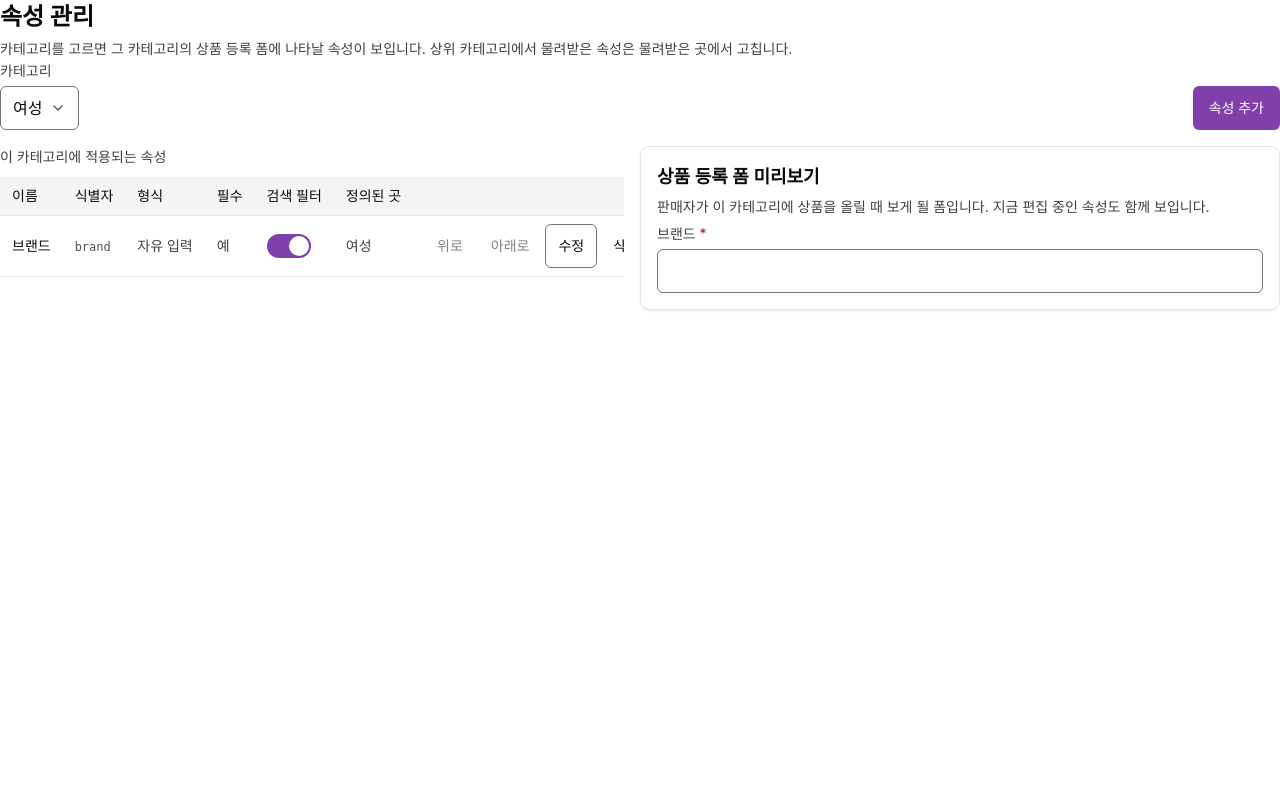
Test case: somebody else saved first › can drop this edit and take the server’s
The width and height of the screenshot is (1280, 797).
Check: the table "이 카테고리에 적용되는 속성" is shown, box [0, 146, 624, 277]
Click the button "수정" at x=571, y=246, box [546, 224, 597, 268]
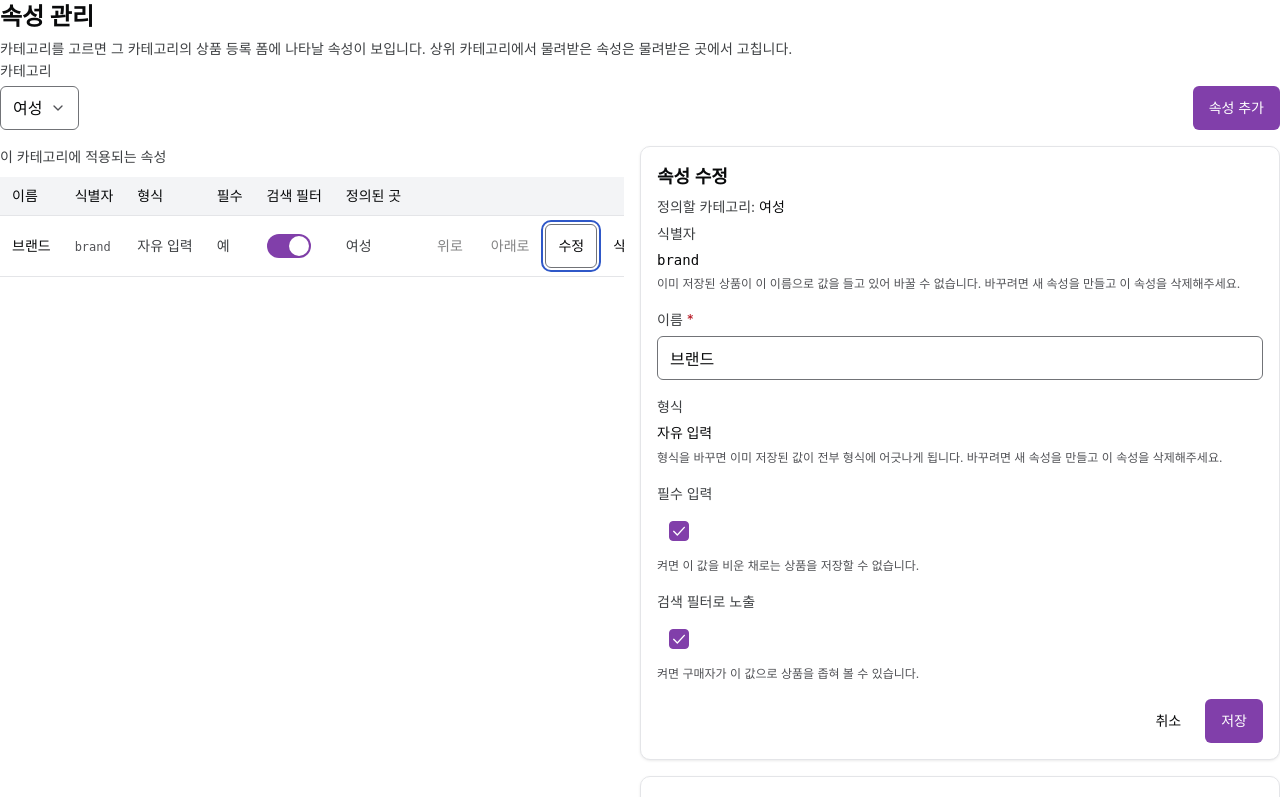
Check: the form is shown, box [657, 223, 1263, 743]
Replace the text in the field labelled "이름" with "내가 쓴 이름" at x=960, y=358, box [657, 336, 1263, 380]
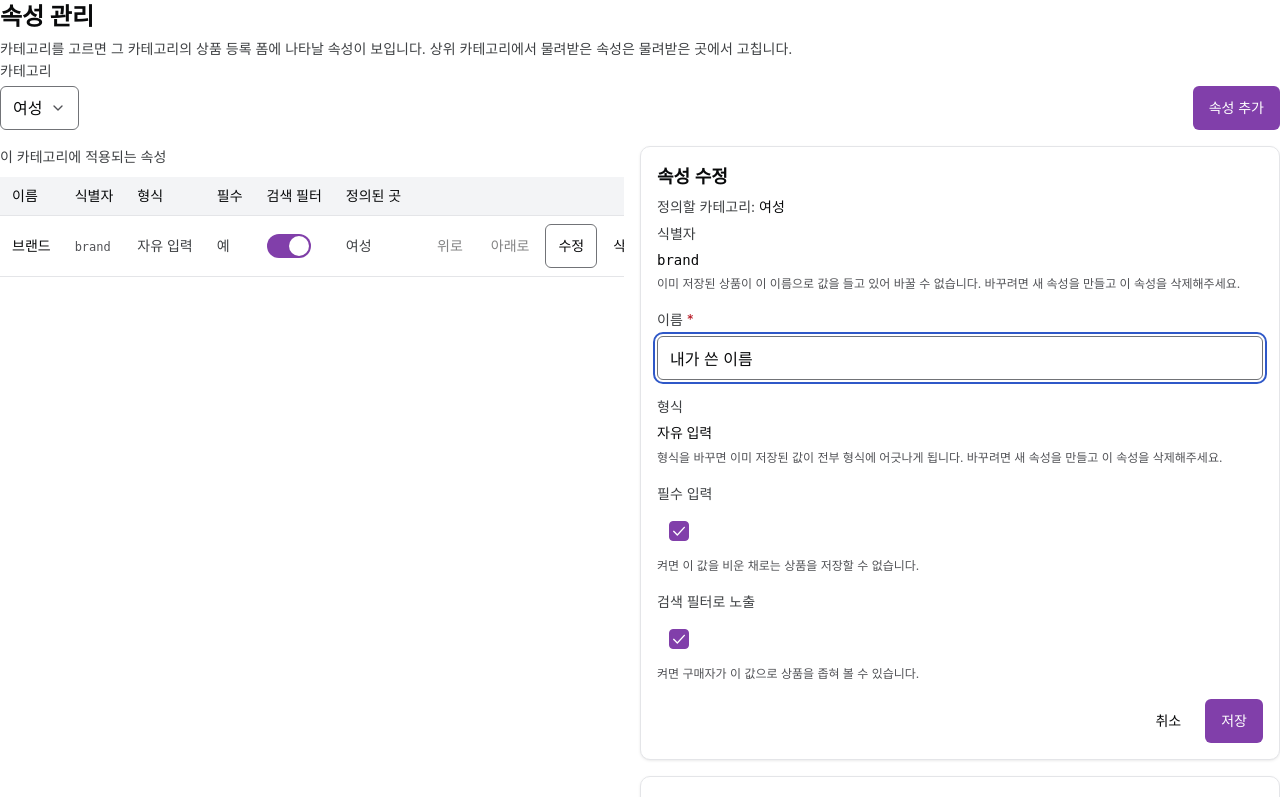
Click the button "저장" at x=1234, y=721, box [1205, 699, 1263, 743]
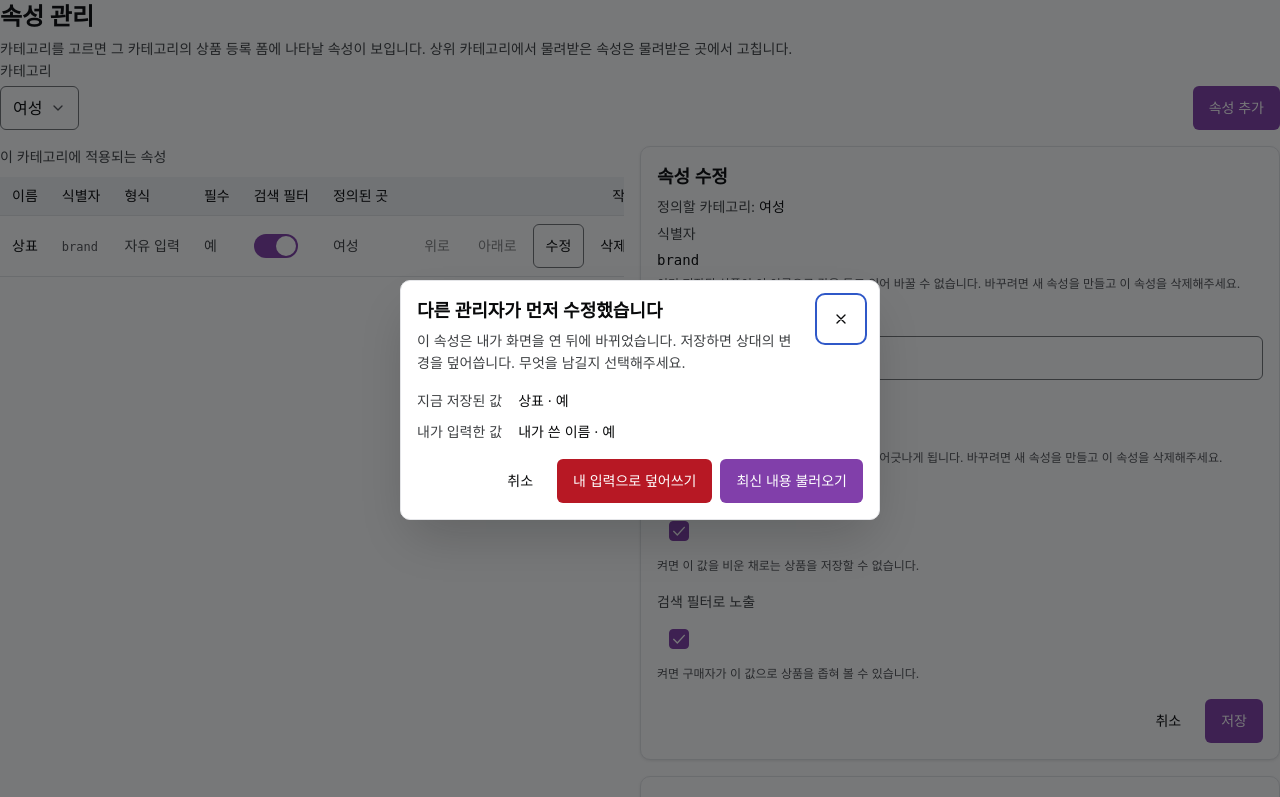
Click the button "최신 내용 불러오기" at x=792, y=481, box [720, 459, 863, 503]
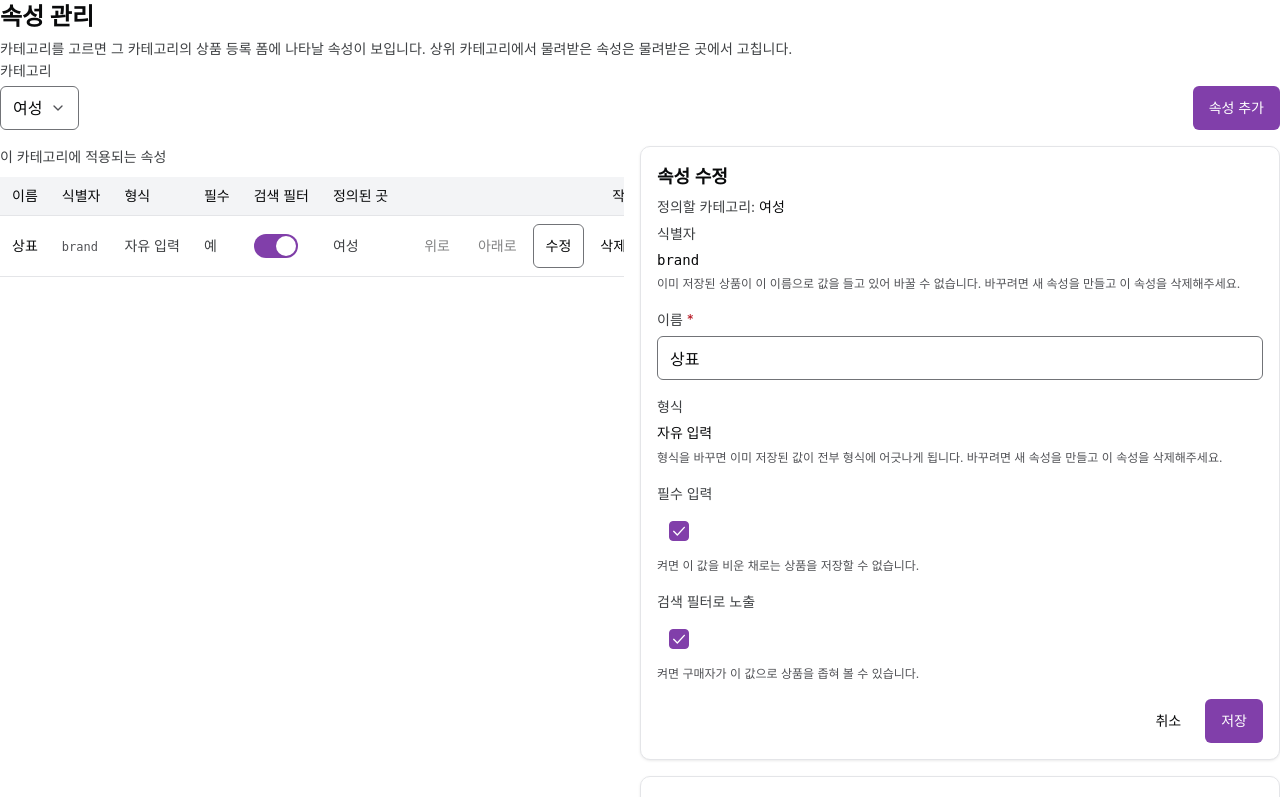
Check: the field labelled "이름" holds "상표", box [657, 336, 1263, 380]
